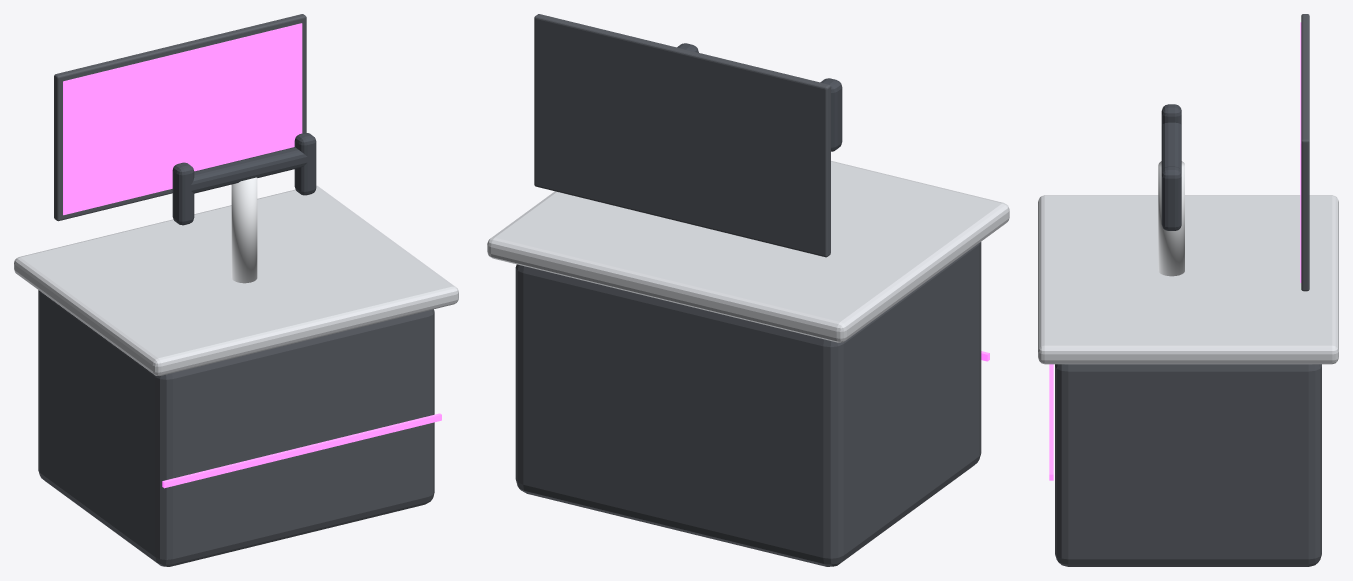
Rendered from command_console_pilot_yoke.glb.
3 renders of one model, left to right at view 1: azimuth 30°, elevation 25°; view 2: azimuth 150°, elevation 25°; view 3: azimuth 270°, elevation 25°, orthographic. The views are drawn at different scales.
Parts seen in each view (by area): view 1: GD_command_console_pilot_yoke__m0, GD_command_console_pilot_yoke__m1, GD_command_console_pilot_yoke__m4, GD_command_console_pilot_yoke__m3, GD_command_console_pilot_yoke__m2, GD_command_console_pilot_yoke__m5; view 2: GD_command_console_pilot_yoke__m0, GD_command_console_pilot_yoke__m1, GD_command_console_pilot_yoke__m3; view 3: GD_command_console_pilot_yoke__m0, GD_command_console_pilot_yoke__m1, GD_command_console_pilot_yoke__m3, GD_command_console_pilot_yoke__m2, GD_command_console_pilot_yoke__m5, GD_command_console_pilot_yoke__m4.
Part boxes in pixels (x1,y1,x2,y2): GD_command_console_pilot_yoke__m0: (38,14,434,566); GD_command_console_pilot_yoke__m1: (14,185,458,375); GD_command_console_pilot_yoke__m4: (63,23,302,215); GD_command_console_pilot_yoke__m3: (172,133,316,225); GD_command_console_pilot_yoke__m2: (231,177,257,283); GD_command_console_pilot_yoke__m5: (162,413,441,488); GD_command_console_pilot_yoke__m0: (515,14,981,566); GD_command_console_pilot_yoke__m1: (487,161,1009,342); GD_command_console_pilot_yoke__m3: (677,43,842,151); GD_command_console_pilot_yoke__m0: (1055,14,1321,566); GD_command_console_pilot_yoke__m1: (1038,195,1338,364); GD_command_console_pilot_yoke__m3: (1161,104,1181,230); GD_command_console_pilot_yoke__m2: (1158,161,1184,276); GD_command_console_pilot_yoke__m5: (1049,364,1053,480); GD_command_console_pilot_yoke__m4: (1300,22,1301,282).
Size of the model in its own units: 1.1 by 1.4 by 0.9.
